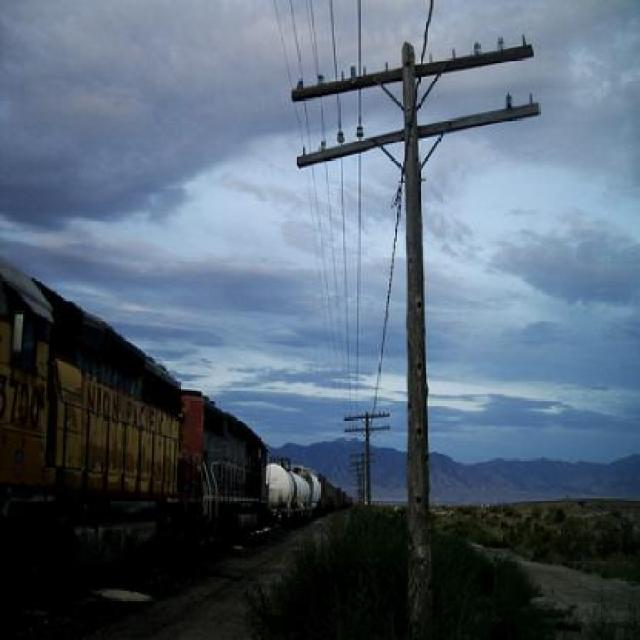pole: (280, 64, 518, 616), (335, 400, 396, 518)
